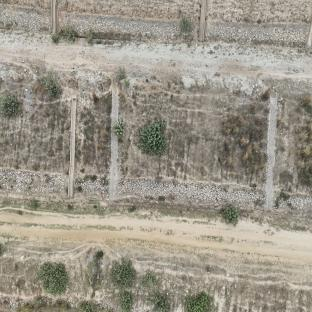rock_toe: (120, 180, 263, 208), (57, 13, 199, 39), (204, 21, 308, 43), (0, 168, 67, 197), (0, 7, 50, 32), (74, 177, 109, 202), (275, 193, 312, 215)
slope_drain: (265, 94, 278, 211), (109, 88, 121, 202), (68, 96, 77, 197)
toe_drain: (16, 194, 259, 220), (0, 26, 212, 47)
vegetation: (140, 121, 167, 153), (0, 94, 20, 118)
